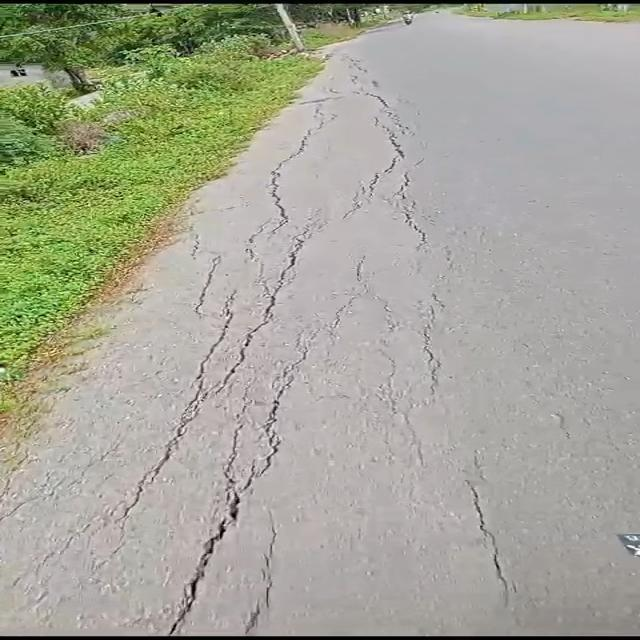Memanjang: (107, 89, 355, 525), (147, 346, 322, 639), (450, 458, 530, 616)
